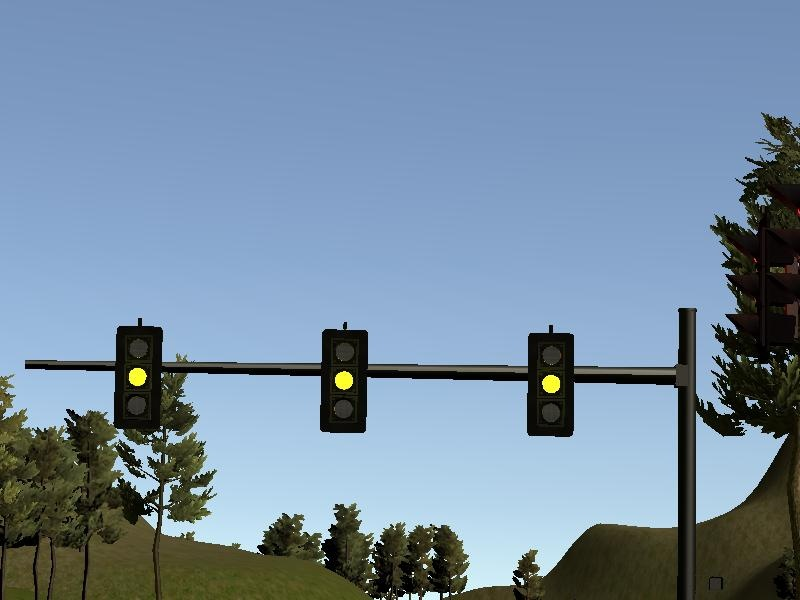YELLOW: (113, 317, 164, 430), (318, 321, 369, 434), (526, 325, 577, 438)
